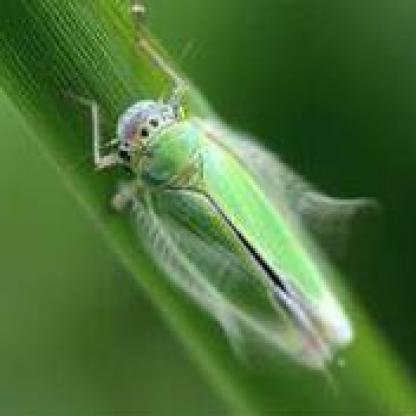Green-Leafhopper: (65, 5, 378, 377)
